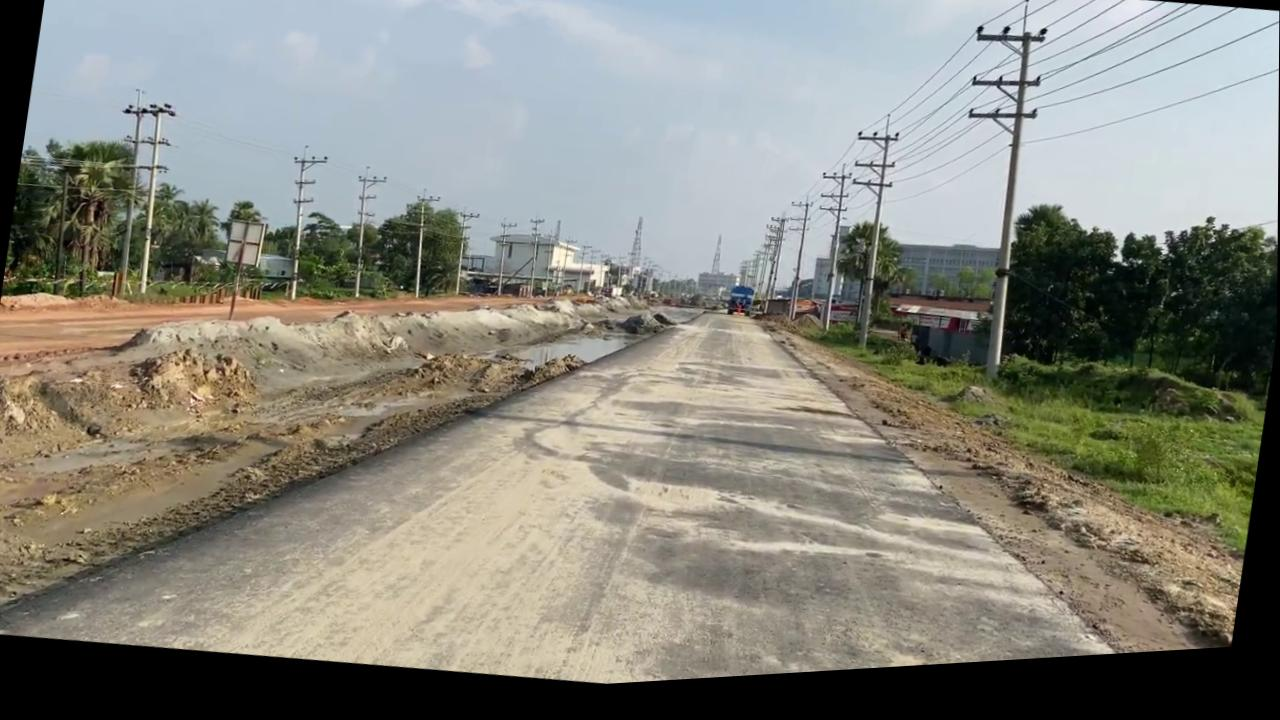Muddy road: (0, 188, 1271, 720)
Pole: (924, 7, 1056, 396), (826, 119, 904, 360), (121, 101, 177, 298), (273, 145, 328, 306), (341, 167, 387, 304), (400, 191, 441, 305), (446, 213, 479, 302), (489, 222, 518, 303)
Traffic-sign: (22, 130, 153, 305), (825, 224, 913, 350)
Tree: (725, 291, 756, 326)
